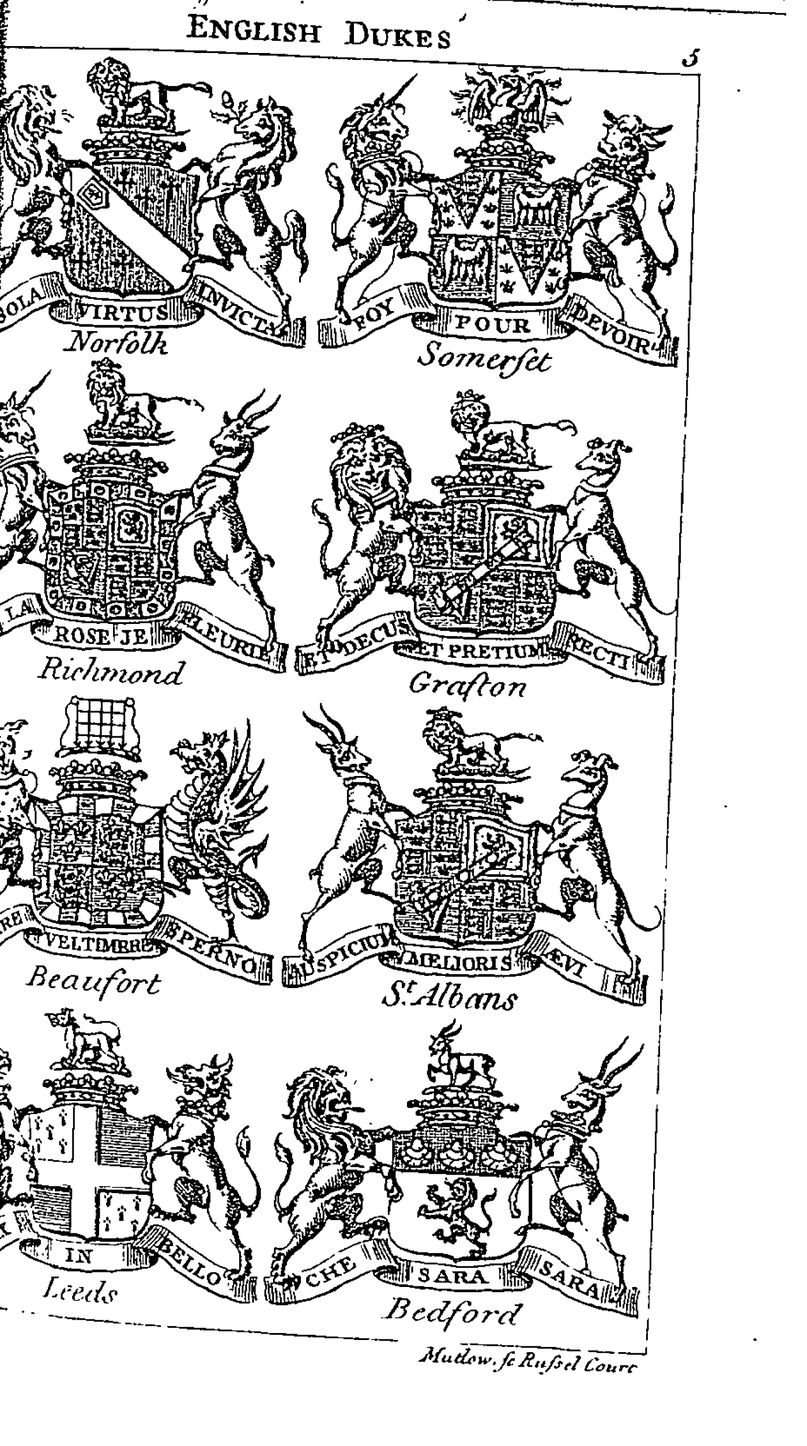coat_of_arms: (292, 366, 677, 704), (300, 692, 659, 1035), (304, 58, 684, 381), (276, 1026, 653, 1345), (1, 57, 315, 372), (1, 362, 290, 702), (5, 688, 281, 1012), (1, 1001, 270, 1328)
